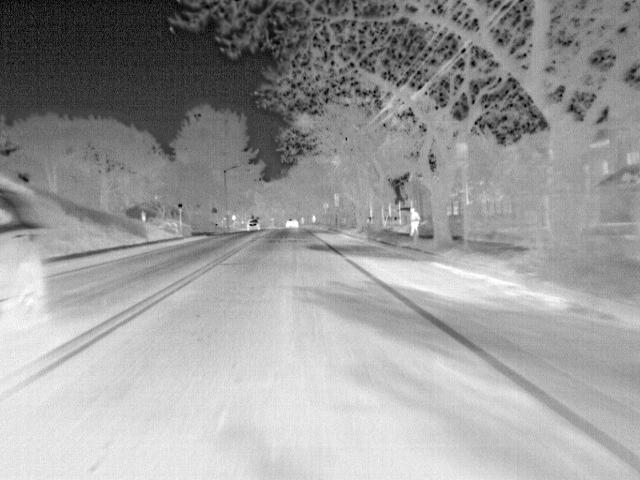car: (0, 186, 48, 341), (284, 214, 298, 230), (246, 216, 261, 228)
person: (406, 205, 421, 237)
